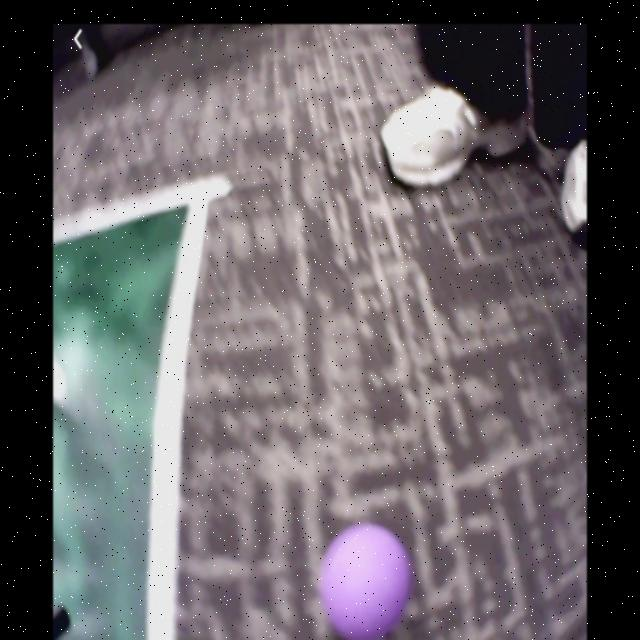ball: (323, 523, 412, 639)
